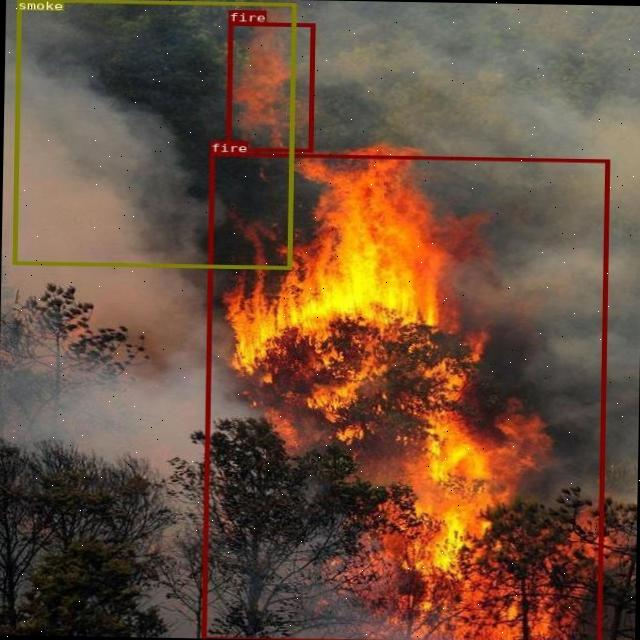fire: (201, 152, 607, 640), (226, 22, 314, 152)
smoke: (11, 0, 295, 268)
